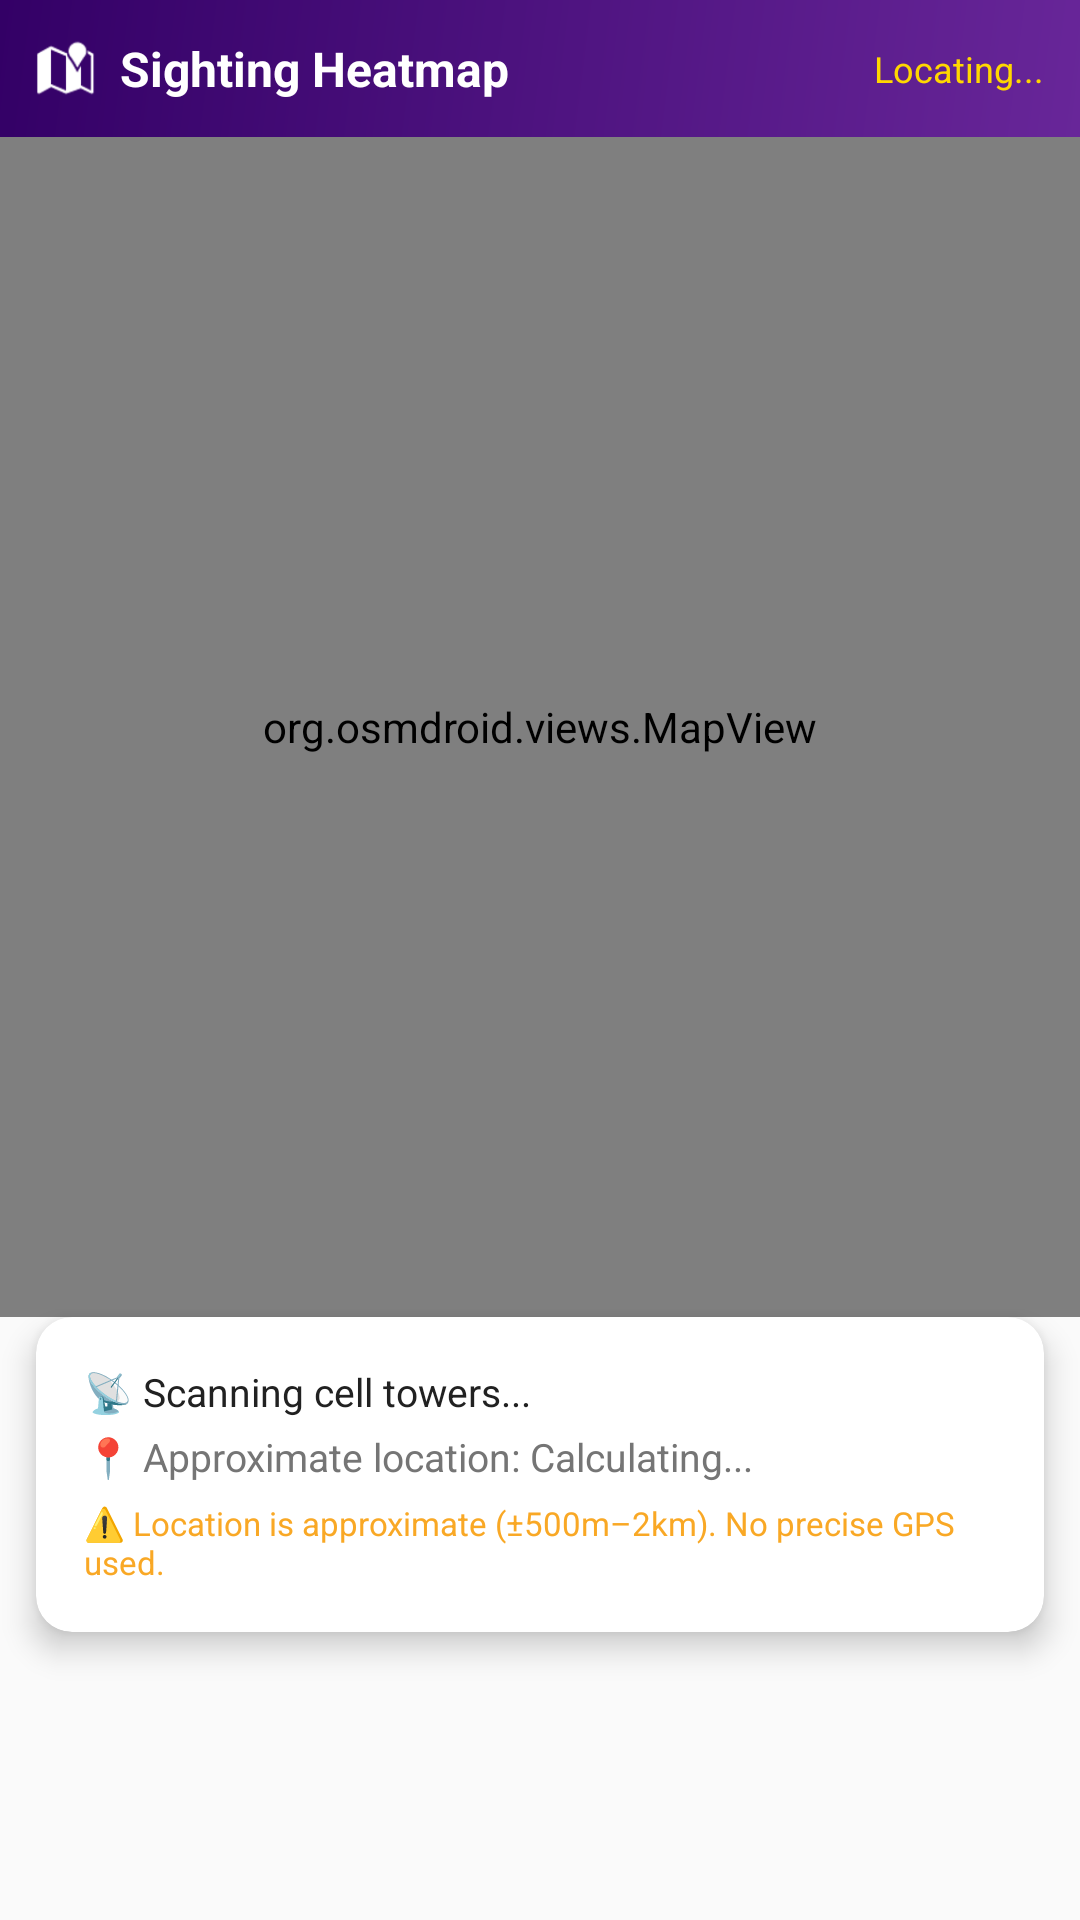

Icon bounding boxes for this 1080px×1920px phone screenshot, format bbox=[x1, y1, x2, y2]:
map: bbox=[37, 41, 94, 94]
